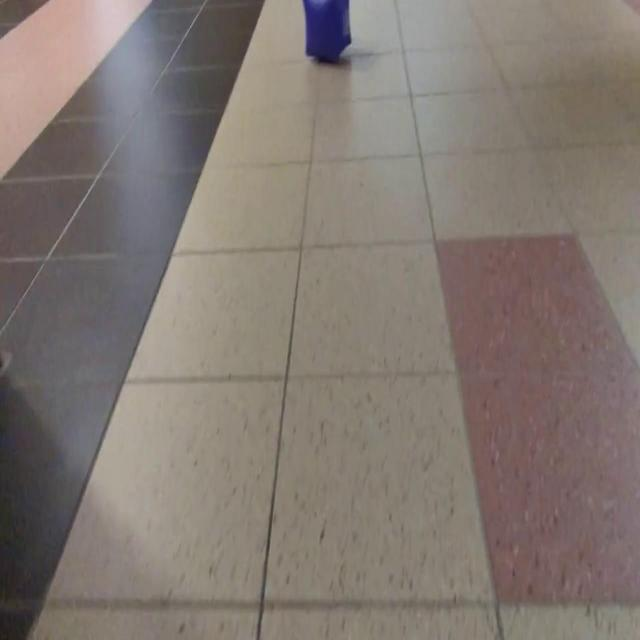frc_cube: (302, 0, 352, 62)
